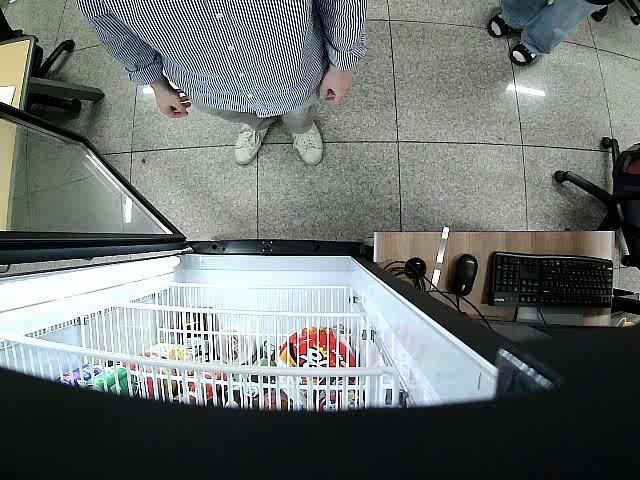00_hand: (156, 86, 192, 119), (319, 69, 352, 105)
